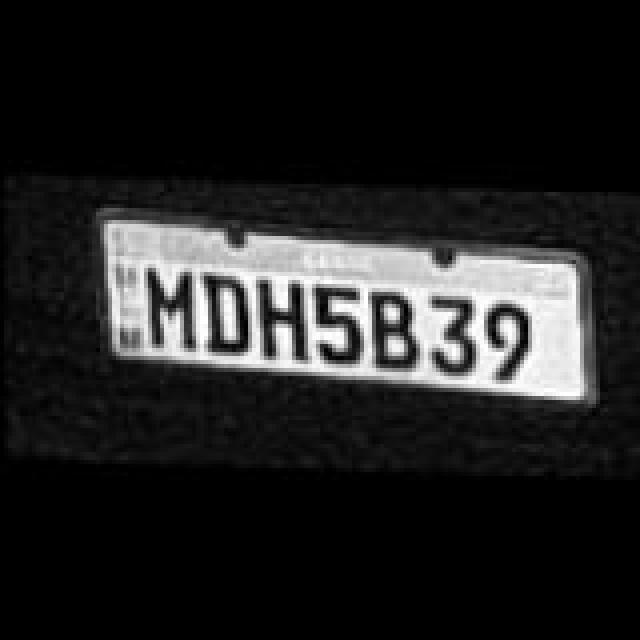3: (428, 292, 476, 372)
5: (314, 284, 366, 364)
9: (484, 298, 532, 378)
B: (370, 284, 422, 368)
D: (202, 270, 254, 354)
H: (258, 278, 310, 362)
M: (146, 266, 198, 350)
